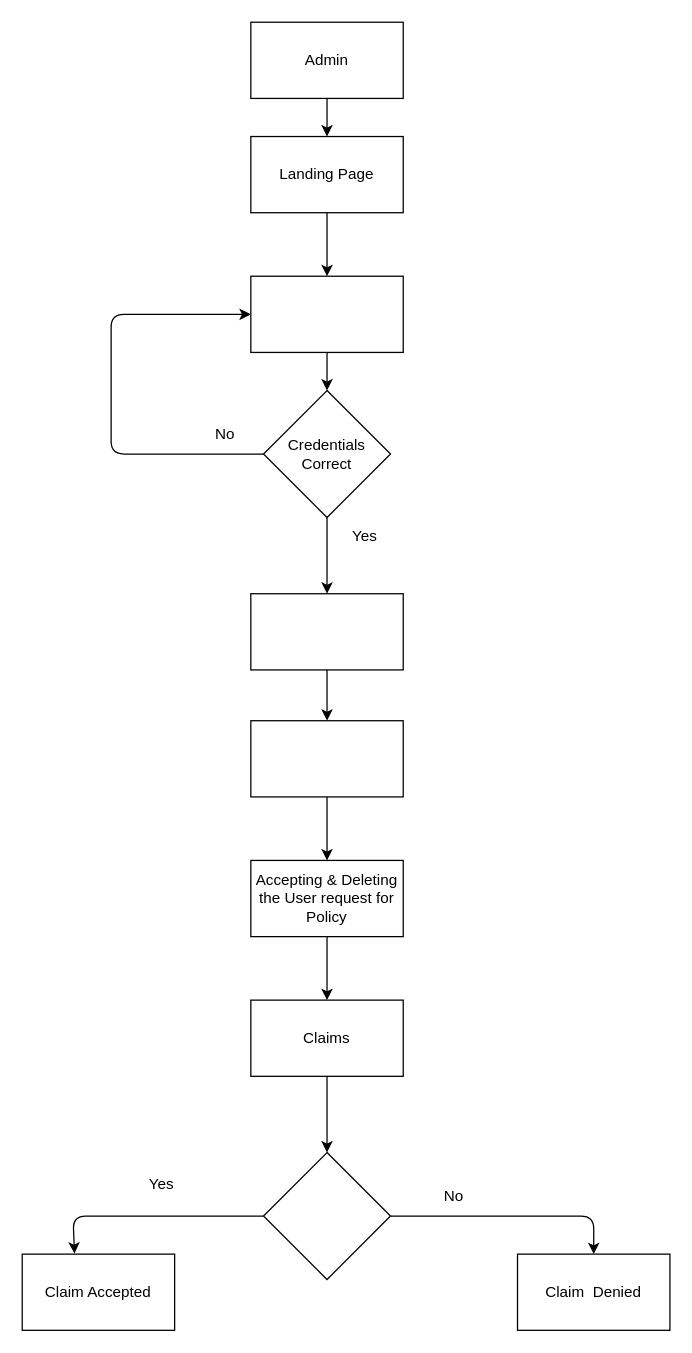
Image size: 692x1353. Some labels were removed from this diagram. Here are the shapes that lost their labels. From the top down, the centre of each, then its label:
(x=326, y=313): Sign In
(x=326, y=631): Admin Dashboard
(x=326, y=758): Users
(x=326, y=1215): Valid Reason
